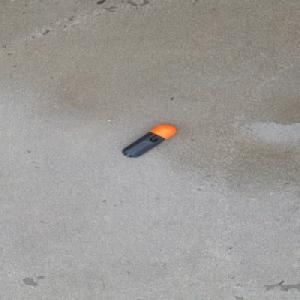PlasticPart: (121, 123, 178, 158)
